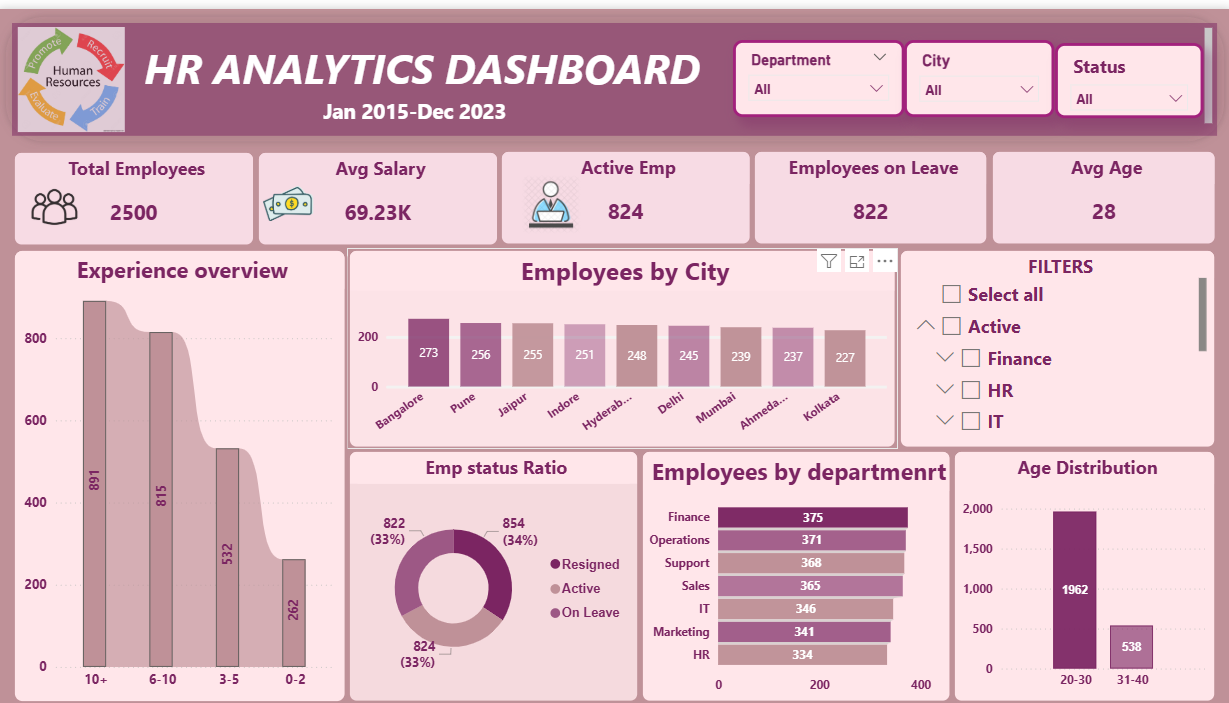

This screenshot's page, from the dashboard's own definition file:
{"tool":"powerbi","page":{"name":"DASHBOARD ","canvas":[1280,720],"ordinal":0},"visuals":[{"type":"shape","box":[0,0,1280,145.4],"z":0},{"type":"textbox","box":[14.9,14.9,1250.1,116.9],"z":1000},{"type":"image","box":[14.9,19,123.7,108.7],"z":2000},{"type":"slicer","fields":{"Values":["HR_Data.Department"]},"box":[762.5,32.5,177.5,80],"z":3000},{"type":"slicer","fields":{"Values":["HR_Data.City"]},"box":[940,32.5,156.2,80],"z":4000},{"type":"slicer","fields":{"Values":["HR_Data.Status"]},"box":[1096.2,35,153.8,77.5],"z":5000},{"type":"card","title":"Total Employees ","fields":{"Values":["CountNonNull(HR_Data.EmpID)"]},"box":[15,146.2,252.5,101.2],"z":6000},{"type":"image","box":[15,177.5,87.5,56.2],"z":7000},{"type":"card","title":"Avg Salary","fields":{"Values":["Avg(HR_Data.Salary)"]},"box":[267.5,146.2,252.5,101.2],"z":8000},{"type":"image","box":[267.5,168.8,67.5,65],"z":9000},{"type":"card","title":"Active Emp","fields":{"Values":["HR_Data.active emp"]},"box":[520,145,262.5,101.2],"z":10000},{"type":"image","box":[507.5,172.5,132.5,61.2],"z":11000},{"type":"card","title":"Employees on Leave","fields":{"Values":["HR_Data.On Leave Emp"]},"box":[782.5,145,246.2,101.2],"z":12000},{"type":"card","title":"Avg Age","fields":{"Values":["Avg(HR_Data.Age)"]},"box":[1028.8,145,236.2,101.2],"z":13000},{"type":"barChart","title":"Employees by departmenrt","fields":{"Category":["HR_Data.Department"],"Y":["CountNonNull(HR_Data.EmpID)"]},"box":[666.2,456.2,323.8,263.8],"z":14000},{"type":"clusteredColumnChart","title":"Employees by City","fields":{"Category":["HR_Data.City"],"Y":["Count(HR_Data.EmpID)"]},"box":[362.5,247.5,571.2,208.8],"z":15000},{"type":"donutChart","title":"Emp status Ratio","fields":{"Category":["HR_Data.Status"],"Y":["Count(HR_Data.EmpID)"]},"box":[362.5,456.2,303.8,263.8],"z":16000},{"type":"clusteredColumnChart","title":"Age Distribution","fields":{"Category":["HR_Data.AgeGroup"],"Y":["CountNonNull(HR_Data.EmpID)"]},"box":[990,456.2,275,263.8],"z":17000},{"type":"ribbonChart","title":"Experience overview","fields":{"Y":["CountNonNull(HR_Data.EmpID)"],"Category":["HR_Data.Experience_Group"]},"box":[15,247.5,347.5,472.5],"z":18000},{"type":"slicer","title":"FILTERS","fields":{"Values":["HR_Data.Status","HR_Data.Department","HR_Data.Age"]},"box":[933.8,247.5,331.2,208.8],"z":19000}]}

Visuals, with their boxes in screenshot pixels (x1, y1, x2, y2), scaled from the page's 1280x720 canvas onto the 1229x703 screenshot:
shape: <bbox>0, 0, 1228, 142</bbox>
textbox: <bbox>14, 15, 1215, 129</bbox>
image: <bbox>14, 19, 133, 125</bbox>
slicer - HR_Data.Department: <bbox>732, 32, 903, 110</bbox>
slicer - HR_Data.City: <bbox>903, 32, 1053, 110</bbox>
slicer - HR_Data.Status: <bbox>1053, 34, 1200, 110</bbox>
"Total Employees " card: <bbox>14, 143, 257, 242</bbox>
image: <bbox>14, 173, 98, 228</bbox>
"Avg Salary" card: <bbox>257, 143, 499, 242</bbox>
image: <bbox>257, 165, 322, 228</bbox>
"Active Emp" card: <bbox>499, 142, 751, 240</bbox>
image: <bbox>487, 168, 614, 228</bbox>
"Employees on Leave" card: <bbox>751, 142, 988, 240</bbox>
"Avg Age" card: <bbox>988, 142, 1215, 240</bbox>
"Employees by departmenrt" barChart: <bbox>640, 445, 951, 702</bbox>
"Employees by City" clusteredColumnChart: <bbox>348, 242, 896, 446</bbox>
"Emp status Ratio" donutChart: <bbox>348, 445, 640, 702</bbox>
"Age Distribution" clusteredColumnChart: <bbox>951, 445, 1215, 702</bbox>
"Experience overview" ribbonChart: <bbox>14, 242, 348, 702</bbox>
"FILTERS" slicer: <bbox>897, 242, 1215, 446</bbox>
